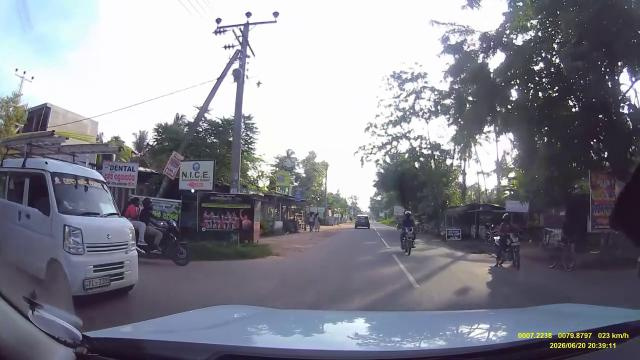no helmet: (131, 197, 141, 209)
number plate: (79, 275, 117, 290)
